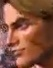kevin: (0, 1, 51, 65)
